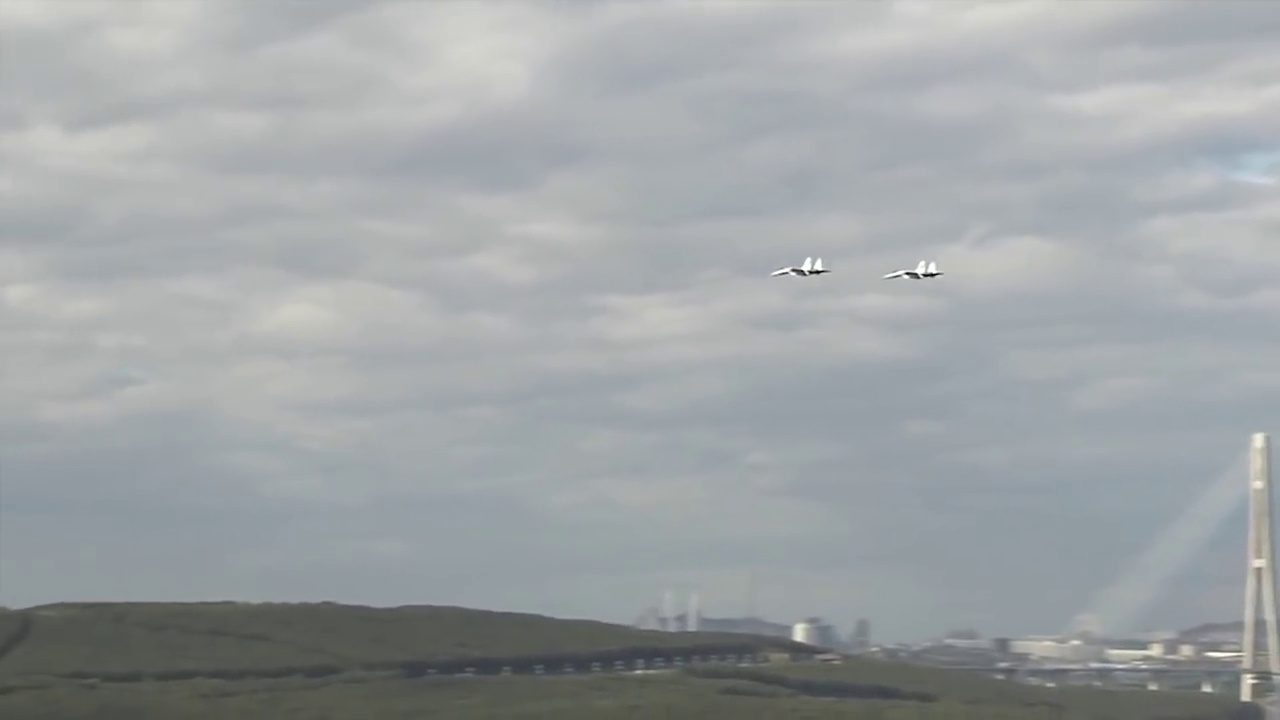Su35: (877, 254, 952, 293), (764, 251, 835, 290)
